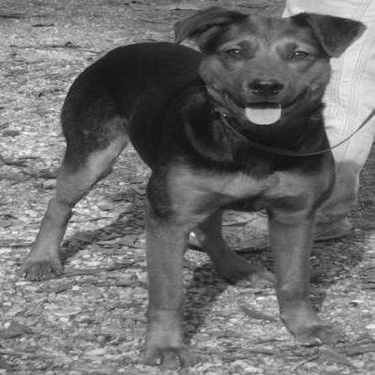dog: (20, 8, 368, 366)
